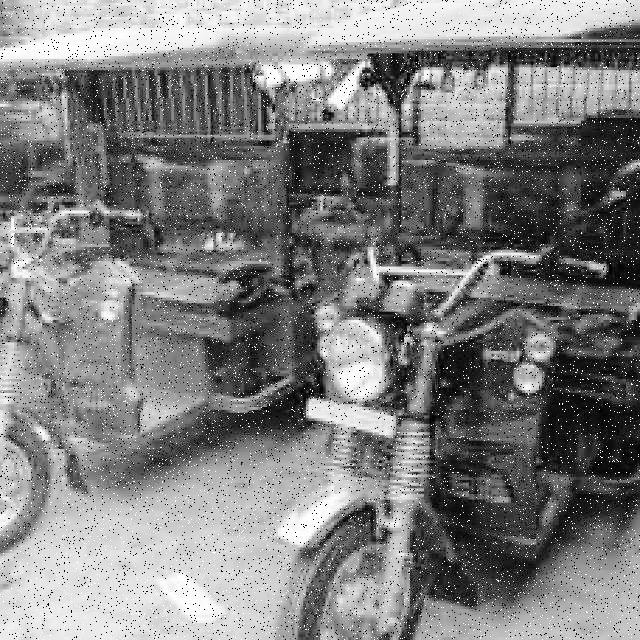Toto: (269, 0, 639, 640), (0, 11, 306, 569)
